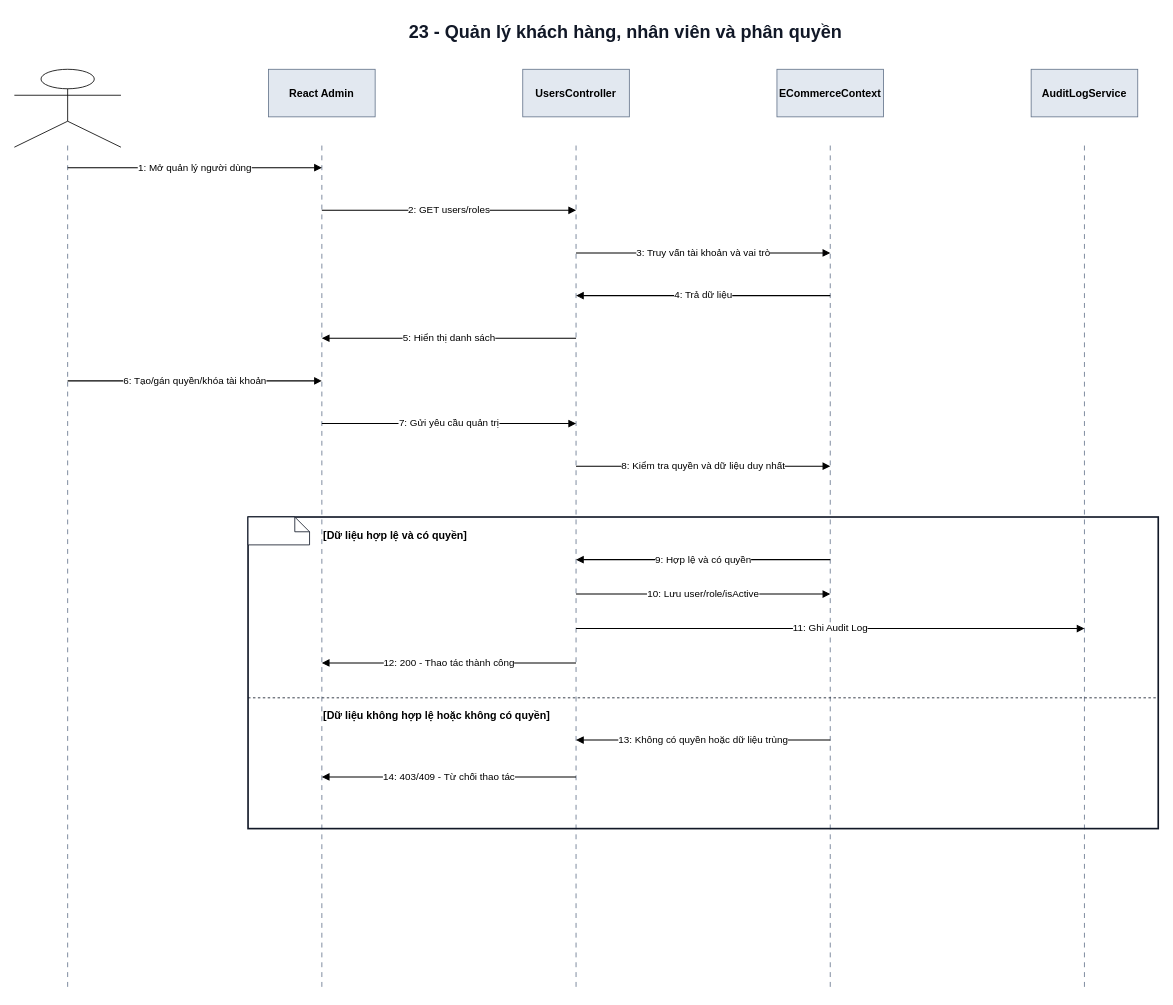
Image size: 1173x1005. Some labels were removed from this diagram. The box of each missing label's shape, as (x1, y1, x2, y2) in pixels:
Admin: (14, 68, 121, 147)
alt: (247, 516, 310, 545)
